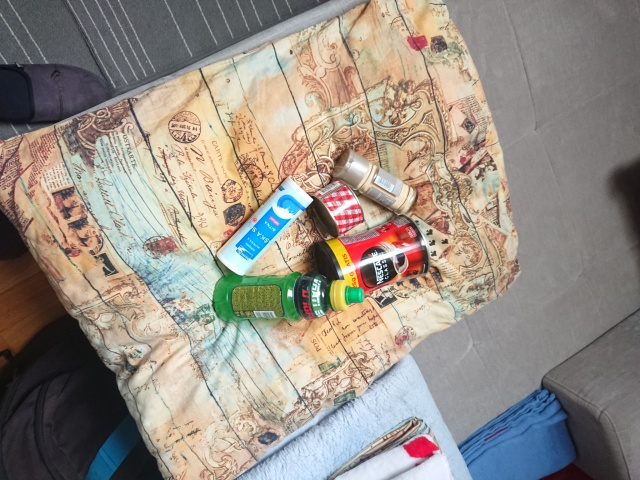Kotanyi Garlic Granules 70g: (329, 146, 420, 217)
Nescafe Classic 225g: (307, 212, 432, 298)
Podravka Luncheon Meat 150g: (307, 178, 367, 241)
Solana Pag Fine Sea Salt 250g: (214, 173, 315, 278)
Vindi Iso Sport Lemon-Grapefruit 500mL: (210, 270, 367, 323)
